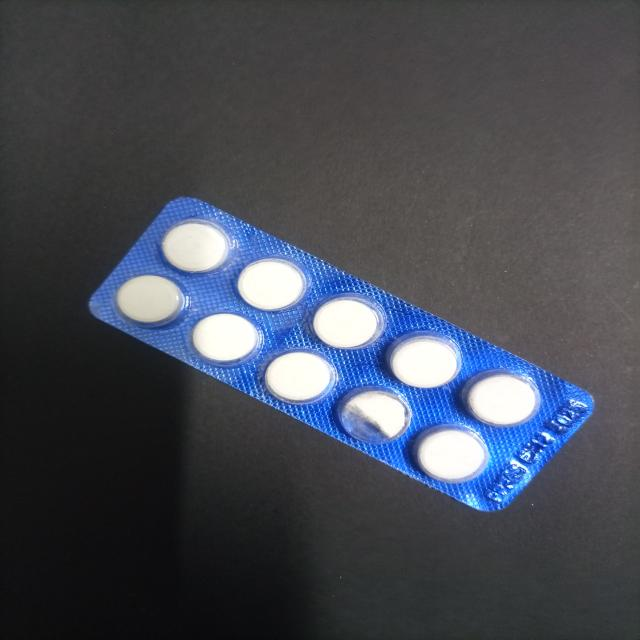defect: (336, 384, 413, 446)
